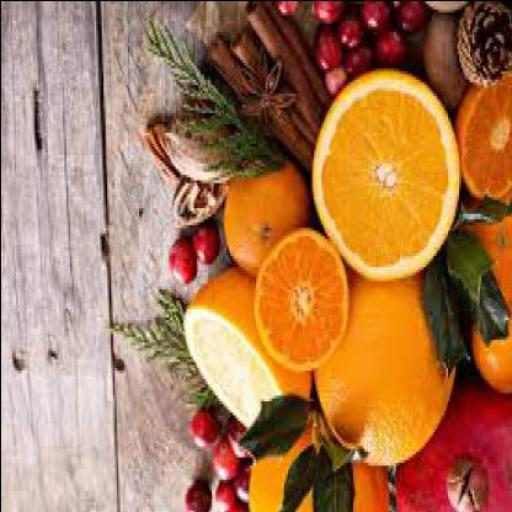biodegradable: (315, 67, 462, 283), (315, 277, 462, 470), (143, 16, 287, 182), (186, 269, 315, 436), (110, 291, 228, 412), (391, 394, 511, 511), (208, 36, 314, 168), (249, 416, 395, 511), (255, 230, 348, 374), (229, 162, 309, 282), (247, 3, 324, 126), (462, 207, 510, 396), (232, 31, 312, 140), (455, 75, 511, 203), (264, 2, 330, 104), (167, 109, 240, 190), (458, 2, 511, 92), (426, 17, 468, 109), (170, 235, 197, 291), (395, 3, 428, 45), (376, 28, 408, 67), (343, 42, 372, 81), (195, 224, 220, 266), (192, 411, 222, 446), (212, 442, 237, 484), (316, 31, 341, 70), (339, 11, 363, 51), (229, 420, 251, 462), (366, 2, 392, 37), (186, 481, 213, 511), (324, 64, 346, 98), (317, 3, 343, 28), (236, 465, 251, 504), (219, 484, 238, 512), (281, 3, 301, 22), (428, 3, 468, 11)
